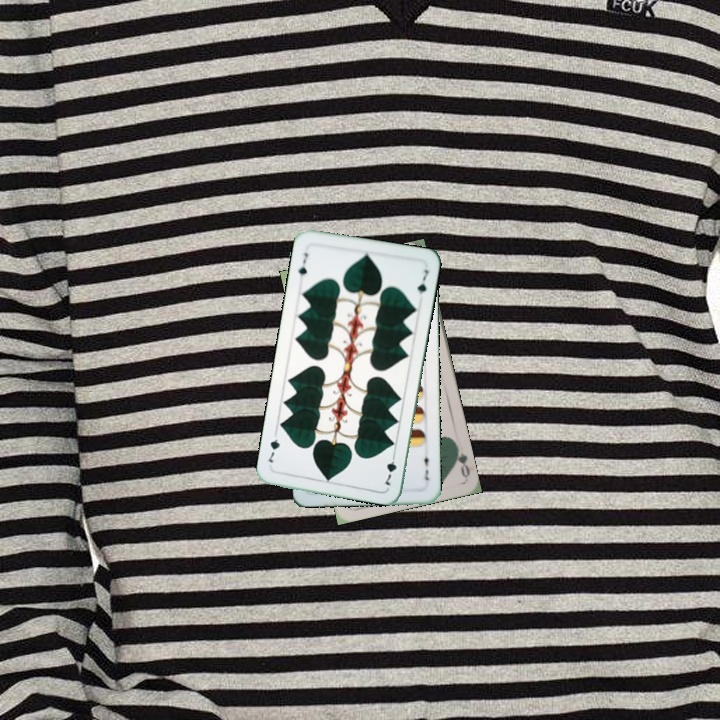E7: (420, 448, 432, 483)
G7: (381, 449, 399, 488), (294, 248, 310, 278)
GO: (450, 440, 472, 479)
